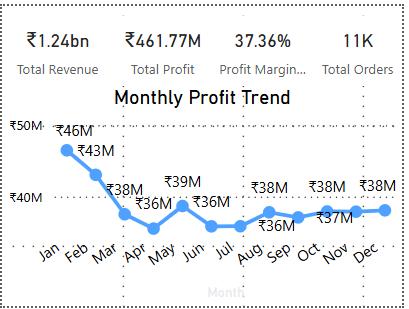

Layout of this report page (visuals, bound fields, positions):
{"tool":"powerbi","page":{"name":"Tooltip","canvas":[320,240],"ordinal":3},"visuals":[{"type":"card","fields":{"Values":["merged_sales_data.Total Revenue"]},"box":[0,8,88,56],"z":0},{"type":"card","fields":{"Values":["merged_sales_data.Total Profit"]},"box":[88,8,80,56],"z":1000},{"type":"card","fields":{"Values":["merged_sales_data.Profit Margin %"]},"box":[168,8,80,56],"z":2000},{"type":"card","fields":{"Values":["merged_sales_data.Total Orders"]},"box":[248,8,72,56],"z":3000},{"type":"lineChart","title":"Monthly Profit Trend","fields":{"Category":["DateTable.Month"],"Y":["merged_sales_data.Total Profit"]},"box":[0,64,320,176],"z":4000}]}

Visuals, with their boxes in screenshot pixels (x1, y1, x2, y2), scaled from the page's 320x240 canvas onto the 409x309 screenshot:
card - merged_sales_data.Total Revenue: bbox=(0, 10, 112, 82)
card - merged_sales_data.Total Profit: bbox=(112, 10, 215, 82)
card - merged_sales_data.Profit Margin %: bbox=(215, 10, 317, 82)
card - merged_sales_data.Total Orders: bbox=(317, 10, 408, 82)
"Monthly Profit Trend" lineChart: bbox=(0, 82, 408, 308)
